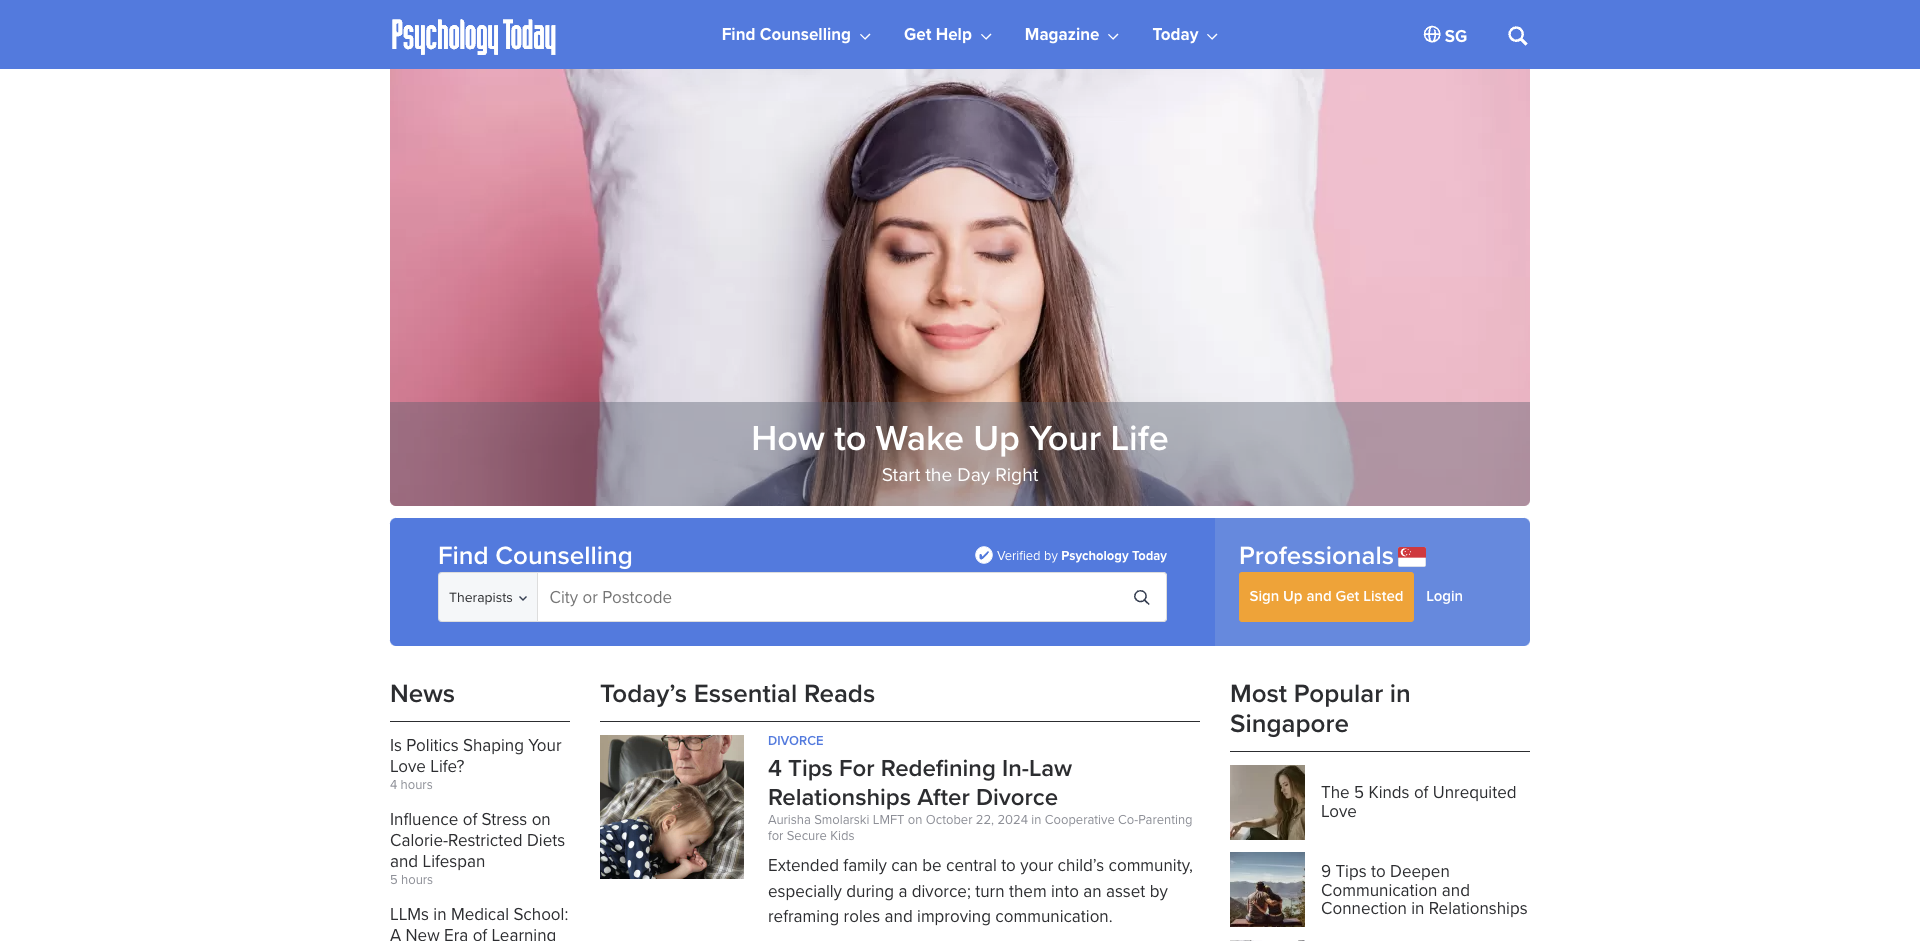button: (1239, 572, 1414, 622), (438, 572, 538, 622), (1117, 572, 1167, 622)
input: (536, 572, 1167, 622)
link: (389, 69, 1531, 506), (600, 678, 1200, 722), (768, 750, 1073, 814), (768, 810, 1193, 844), (1321, 859, 1528, 920), (389, 806, 566, 874), (721, 0, 880, 74), (1321, 780, 1516, 823), (389, 678, 571, 722), (389, 733, 562, 778), (1025, 0, 1129, 74), (438, 535, 633, 573), (904, 0, 1000, 74), (389, 902, 568, 941), (389, 18, 558, 54), (1229, 765, 1305, 839), (1229, 853, 1305, 928), (1152, 0, 1227, 74), (600, 794, 744, 816), (768, 810, 905, 828), (1507, 2, 1527, 74), (768, 730, 824, 750), (1423, 25, 1467, 49), (1427, 584, 1463, 607), (1229, 940, 1305, 941), (0, 69, 1, 70)
